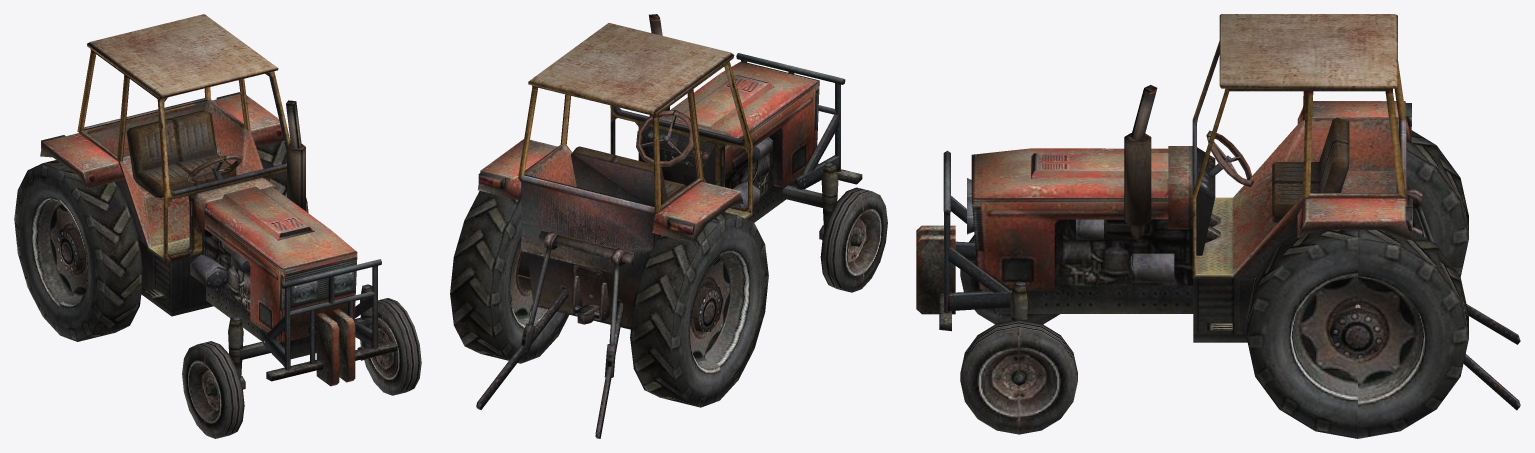
File: car_tractor.glb
3 views of the same model, side by side, from view 1: azimuth 30°, elevation 25°; view 2: azimuth 150°, elevation 25°; view 3: azimuth 270°, elevation 25° (orthographic). The views are drawn at different scales.
Parts seen in each view (by area): view 1: Object_2; view 2: Object_2; view 3: Object_2.
Boxes of the visible parts, bbox=[...] form: Object_2: bbox=[14, 14, 421, 438]; Object_2: bbox=[450, 14, 887, 438]; Object_2: bbox=[916, 14, 1520, 438].
Bounding box in the file's own units: 1483 × 1821 × 3020.
Materials: 1 (1 with a texture image).
